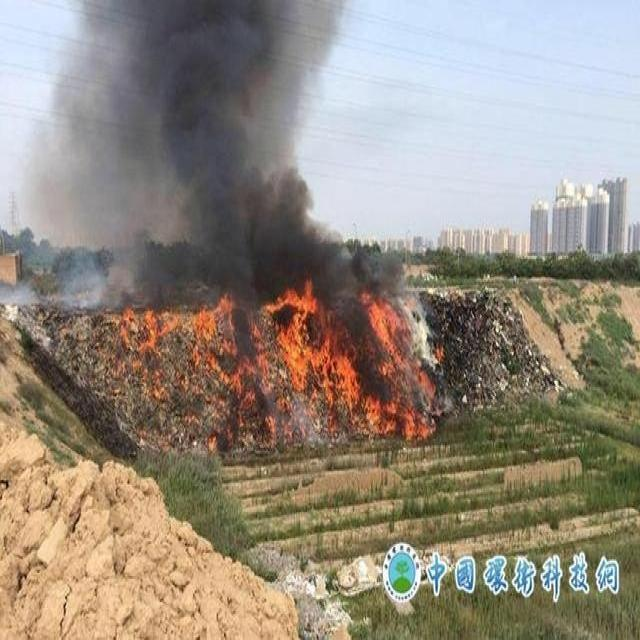Fire: (114, 274, 445, 453)
Smoke: (1, 2, 404, 454)
